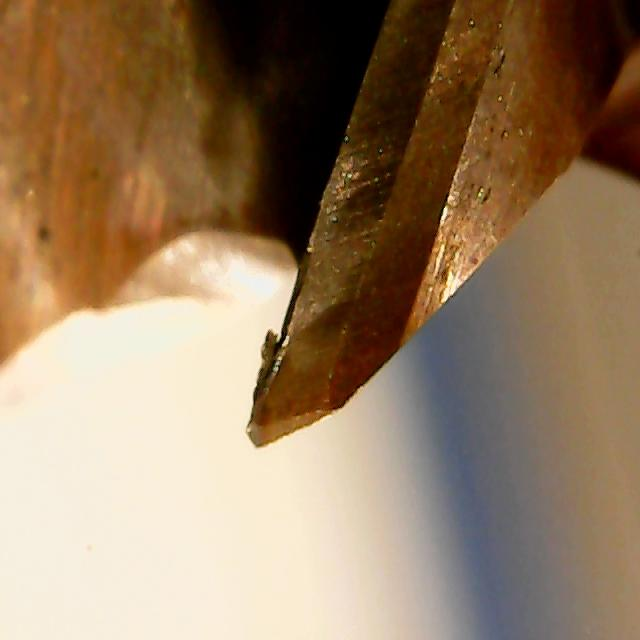Tool-wear-class-1: (224, 156, 406, 459)
